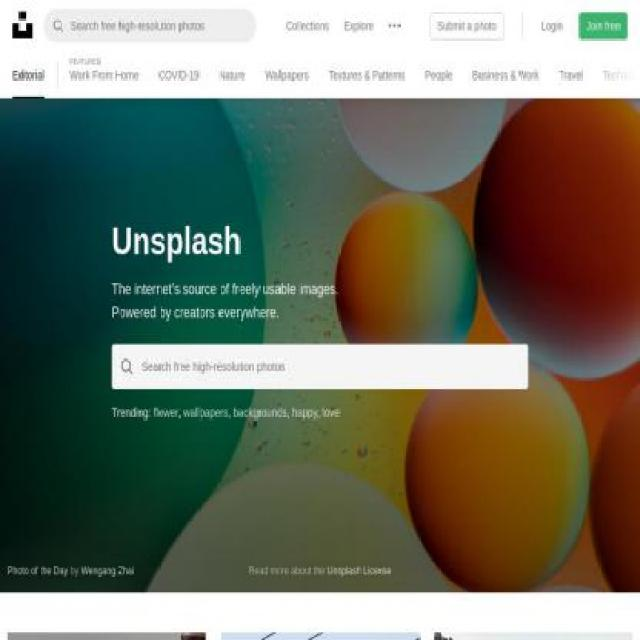button: (328, 52, 406, 99), (70, 52, 138, 99), (472, 52, 539, 99), (429, 12, 505, 40), (265, 52, 309, 99), (158, 52, 199, 99), (602, 52, 640, 99), (7, 632, 207, 640), (220, 632, 420, 640), (433, 632, 633, 640), (12, 52, 45, 99), (578, 12, 628, 40), (219, 52, 246, 99), (425, 52, 452, 99), (327, 562, 391, 580), (559, 52, 583, 99), (7, 562, 68, 580), (534, 12, 571, 40), (112, 345, 133, 389), (45, 10, 63, 42), (12, 11, 32, 38), (380, 18, 408, 36)
field: (132, 345, 530, 389), (63, 10, 255, 42)
